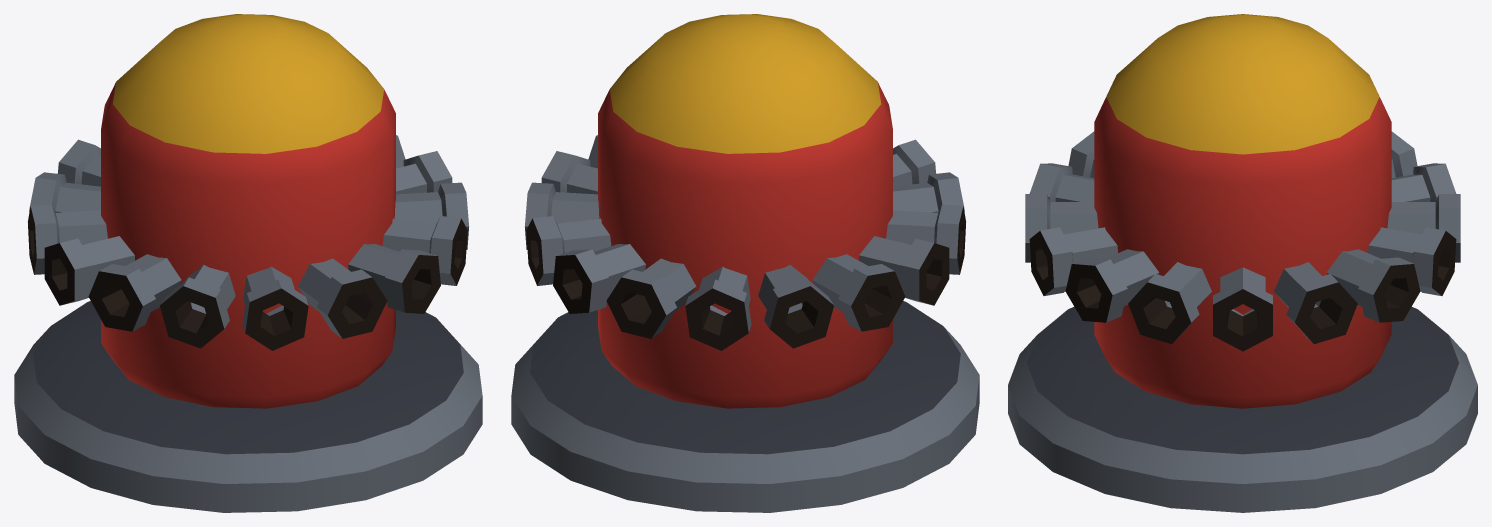
3 renders of one model, left to right at view 1: azimuth 30°, elevation 25°; view 2: azimuth 150°, elevation 25°; view 3: azimuth 270°, elevation 25°, orthographic.
Visible parts, largest first — view 1: tachinha_1_torreta, tachinha_0_base; view 2: tachinha_1_torreta, tachinha_0_base; view 3: tachinha_1_torreta, tachinha_0_base.
Part boxes in pixels (x1,y1,x2,y2): tachinha_1_torreta: (28, 14, 469, 408); tachinha_0_base: (14, 301, 482, 512); tachinha_1_torreta: (524, 14, 965, 408); tachinha_0_base: (511, 301, 979, 512); tachinha_1_torreta: (1025, 14, 1460, 408); tachinha_0_base: (1008, 307, 1477, 512).
Bounding box in the file's own units: 0.68 × 0.62 × 0.68.
